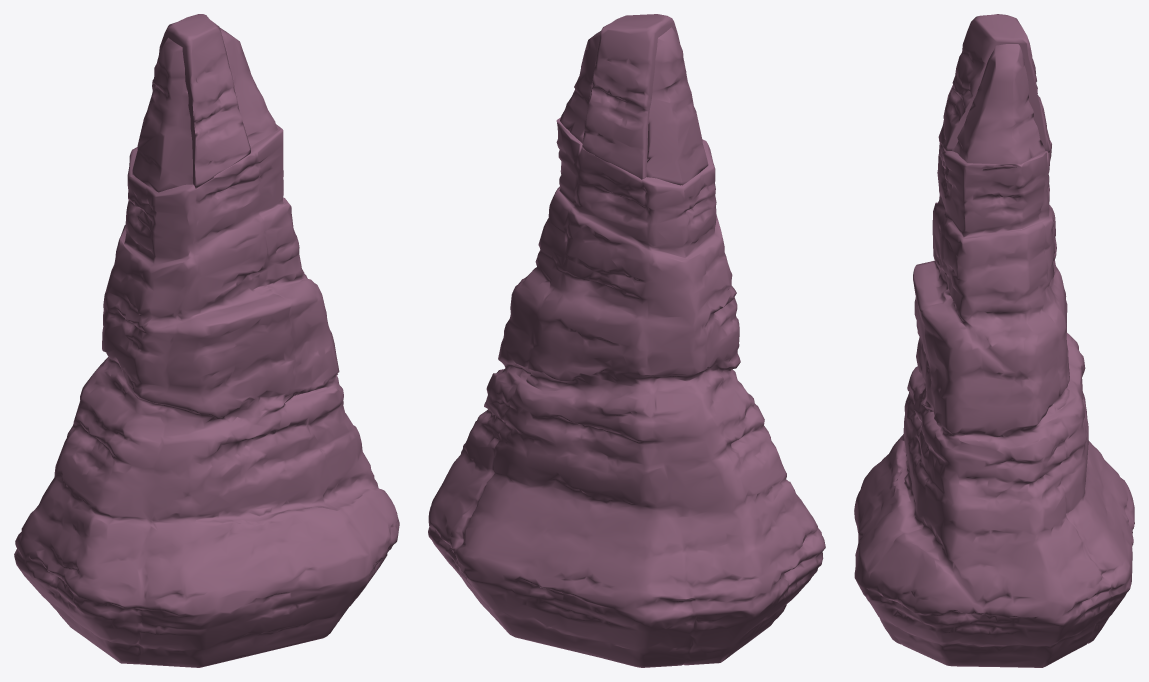
3 renders of one model, left to right at view 1: azimuth 30°, elevation 25°; view 2: azimuth 150°, elevation 25°; view 3: azimuth 270°, elevation 25°, orthographic. The views are drawn at different scales.
Visible parts, largest first — view 1: SM_US_GroundRock_01_v1_LOD0; view 2: SM_US_GroundRock_01_v1_LOD0; view 3: SM_US_GroundRock_01_v1_LOD0.
Boxes of the visible parts, <box> form: SM_US_GroundRock_01_v1_LOD0: <box>14,14,399,667</box>; SM_US_GroundRock_01_v1_LOD0: <box>428,14,825,667</box>; SM_US_GroundRock_01_v1_LOD0: <box>854,14,1134,667</box>.
Bounding box in the file's own units: 4.65 × 7.91 × 3.45.
